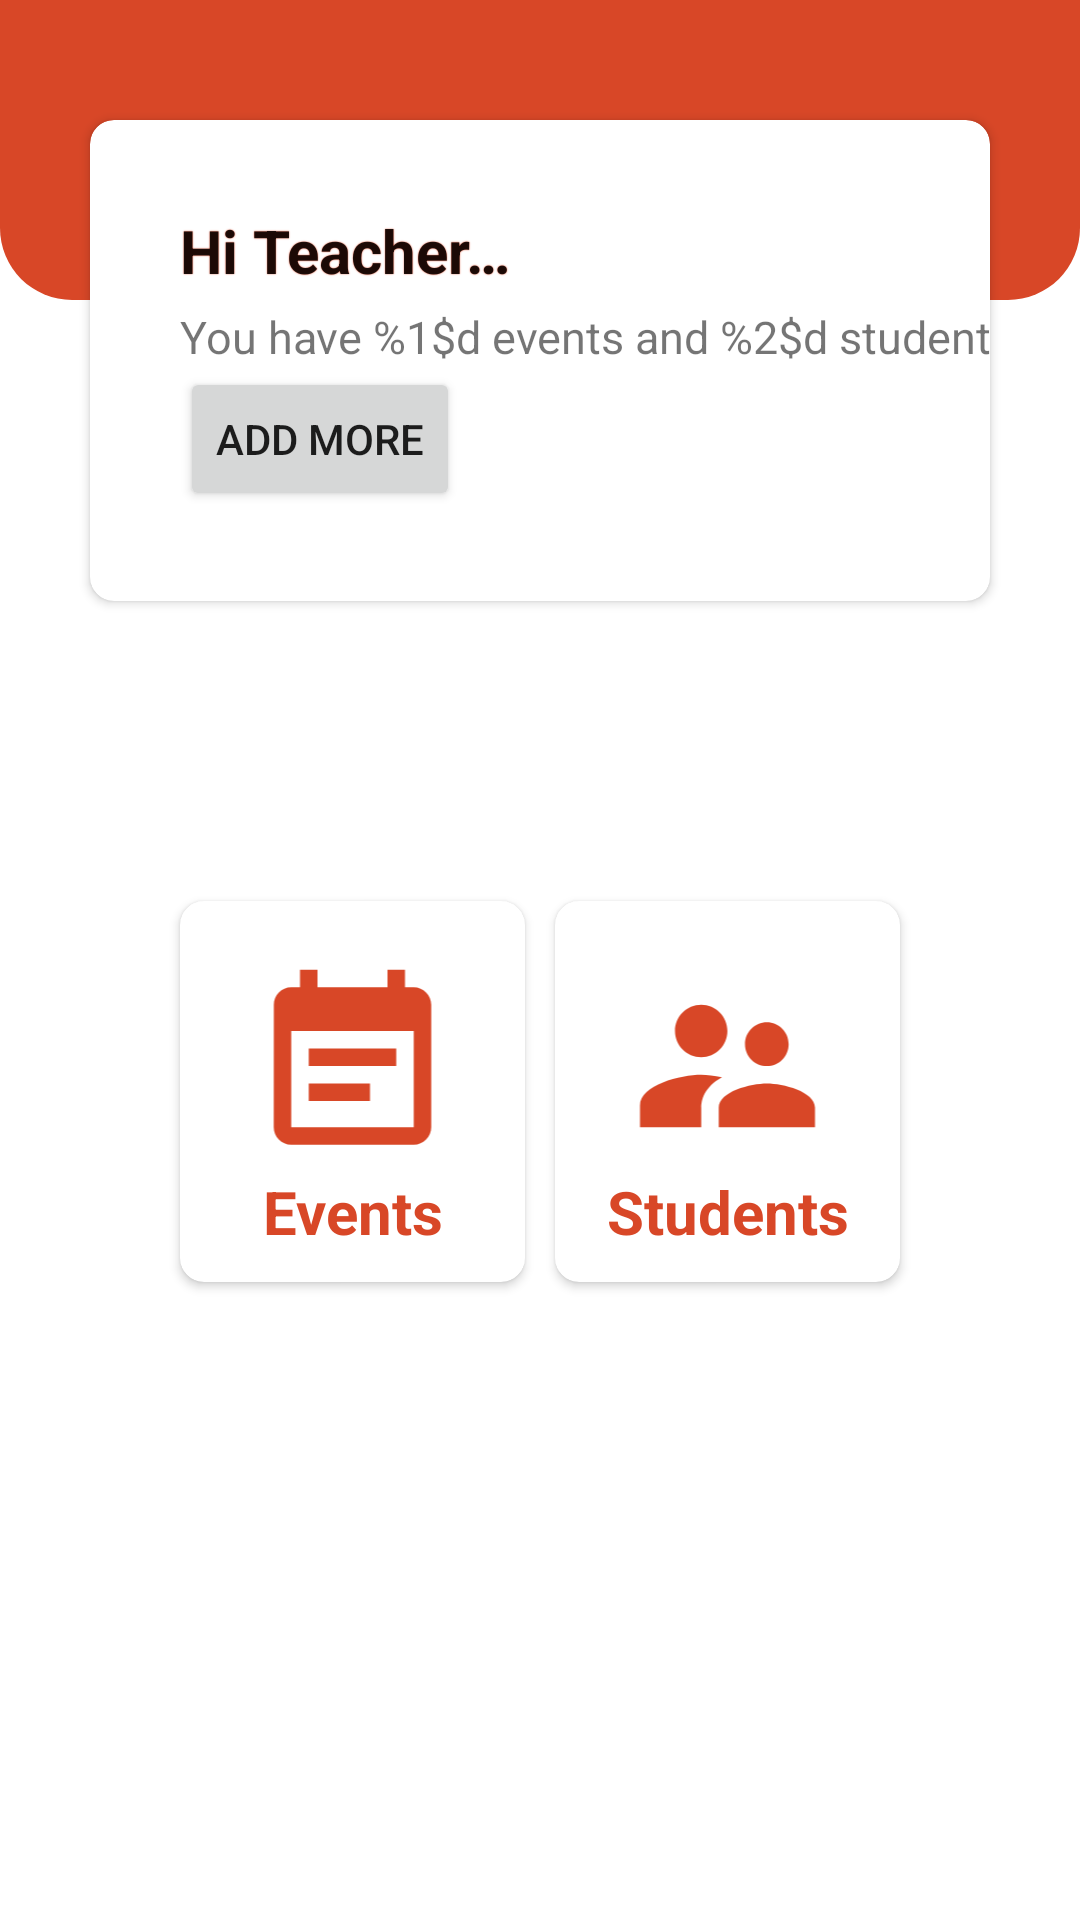

Named icons in this screenshot (1080w x 1920h) and their centers, [x,y]:
users: [727,1066]
